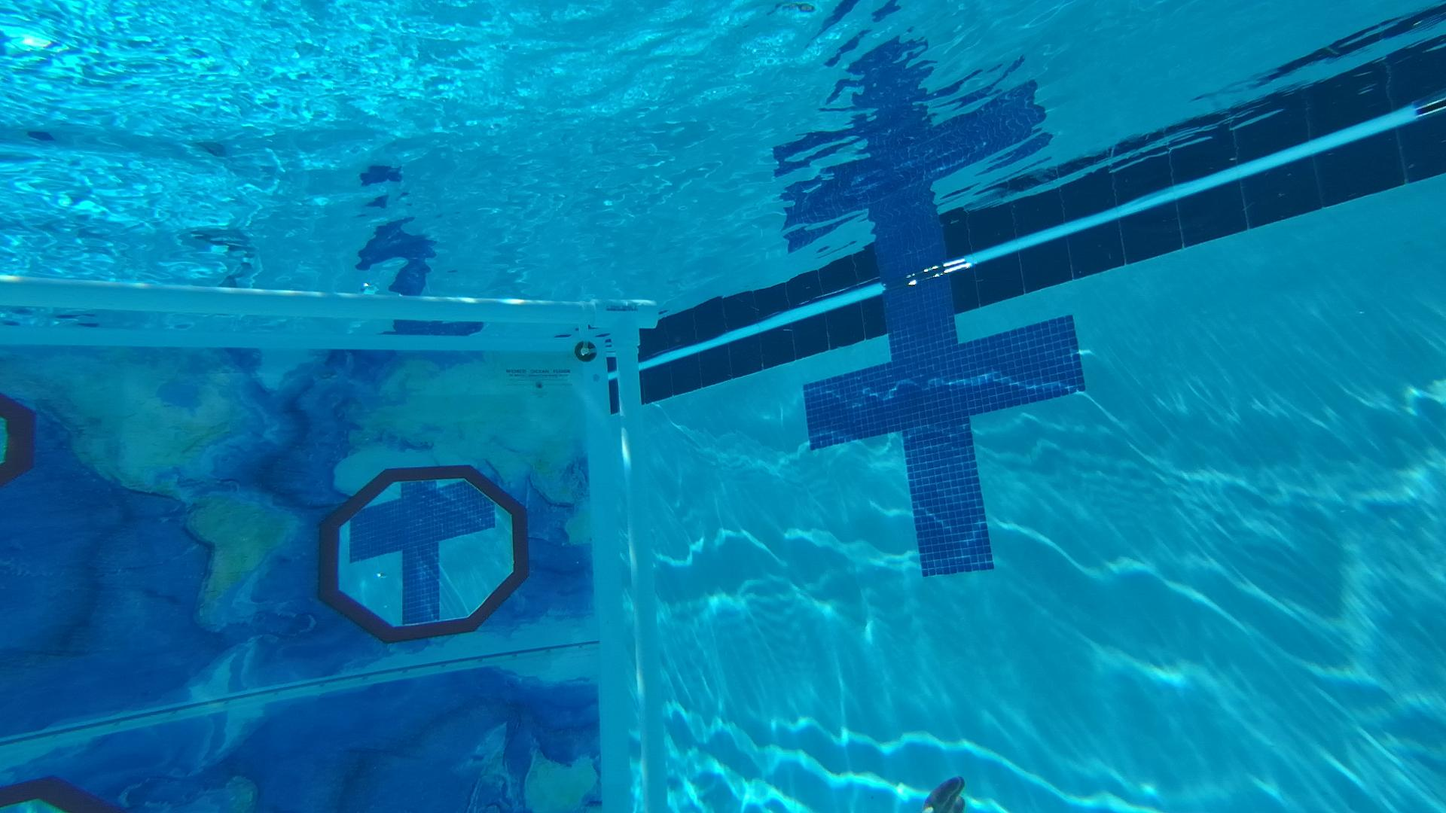red octagon: (322, 465, 533, 639), (0, 380, 45, 513), (0, 776, 137, 813)
